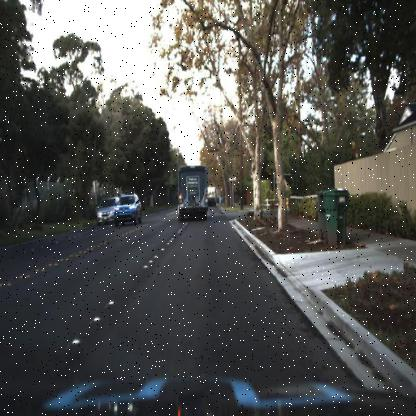car: (113, 187, 146, 227), (112, 192, 142, 226), (93, 195, 120, 226)
truck: (176, 158, 212, 226), (206, 184, 216, 209)
